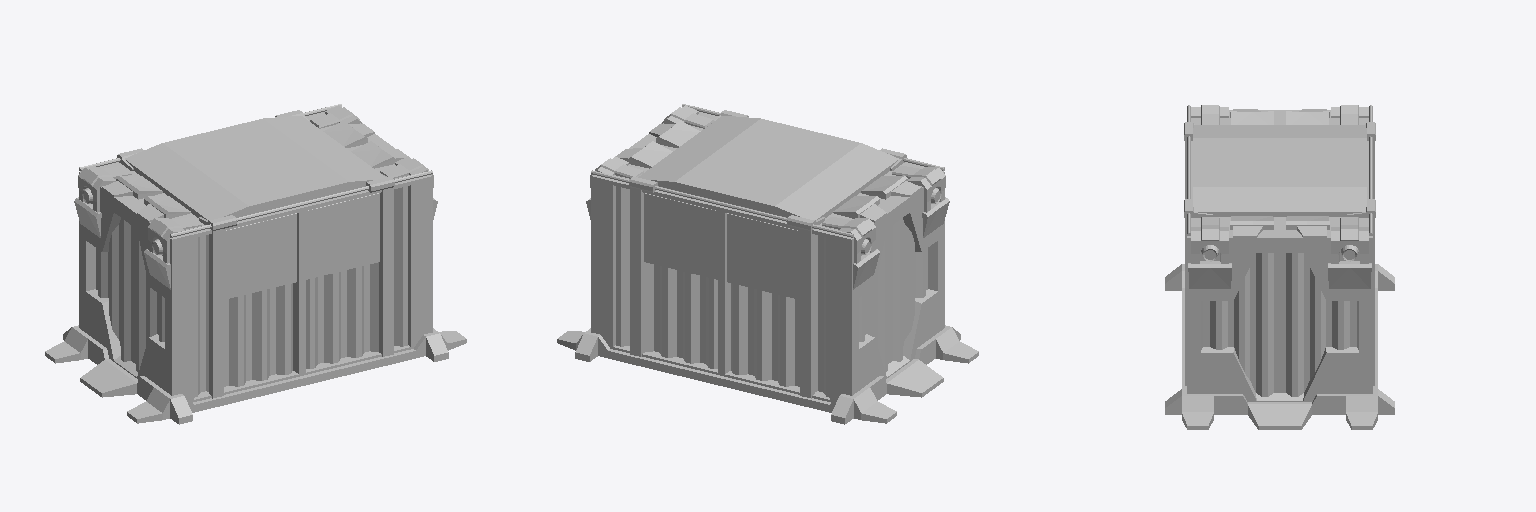
The model's file is MediumBoxcar.obj.
The picture shows the model from 3 angles: view 1: azimuth 30°, elevation 25°; view 2: azimuth 150°, elevation 25°; view 3: azimuth 270°, elevation 25°; orthographic projection.
Visible parts, largest first — view 1: MedBoxcar_Mesh.049; view 2: MedBoxcar_Mesh.049; view 3: MedBoxcar_Mesh.049.
Part boxes in pixels (x1,y1,x2,y2): MedBoxcar_Mesh.049: (45, 104, 466, 424); MedBoxcar_Mesh.049: (557, 104, 978, 424); MedBoxcar_Mesh.049: (1165, 105, 1394, 429).
Size of the model in its own units: 5.89 by 3.19 by 3.57.